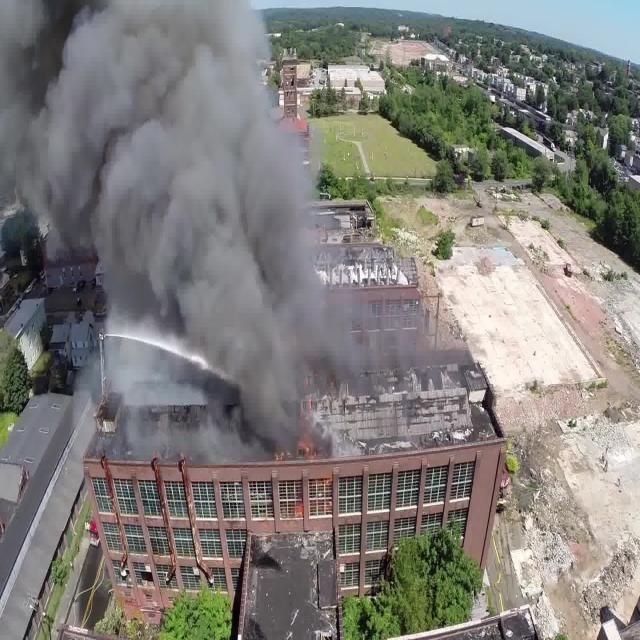Smoke: (0, 0, 442, 451)
